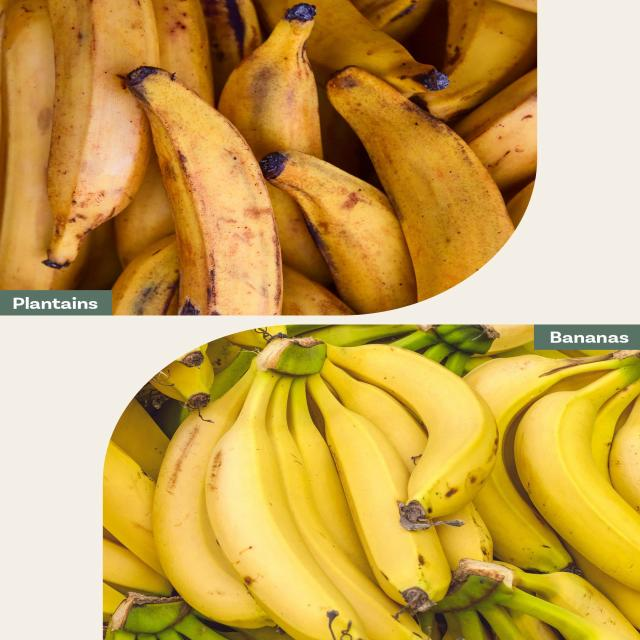banana: (109, 322, 640, 639)
plantains: (0, 0, 539, 317)
